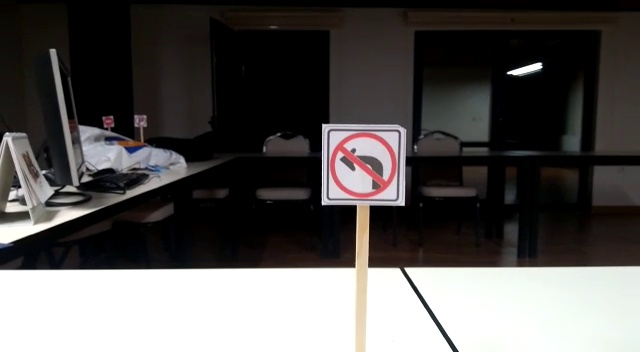sola_donulmez: (328, 130, 404, 202)
